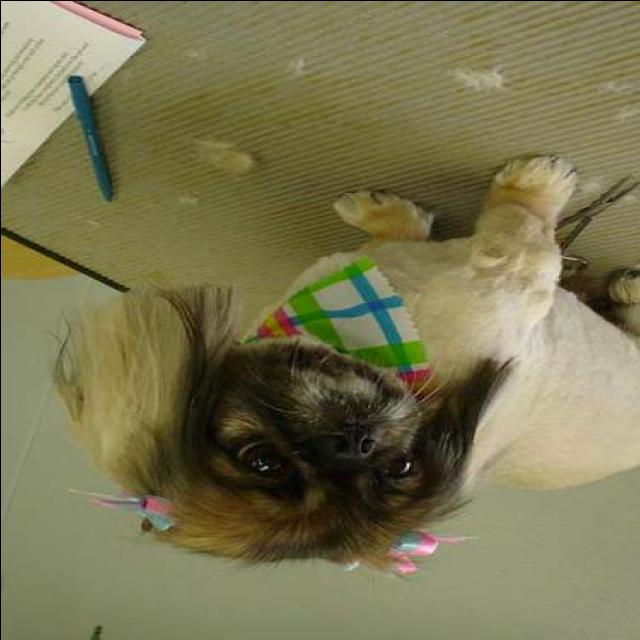pekinese: (46, 151, 636, 586)
